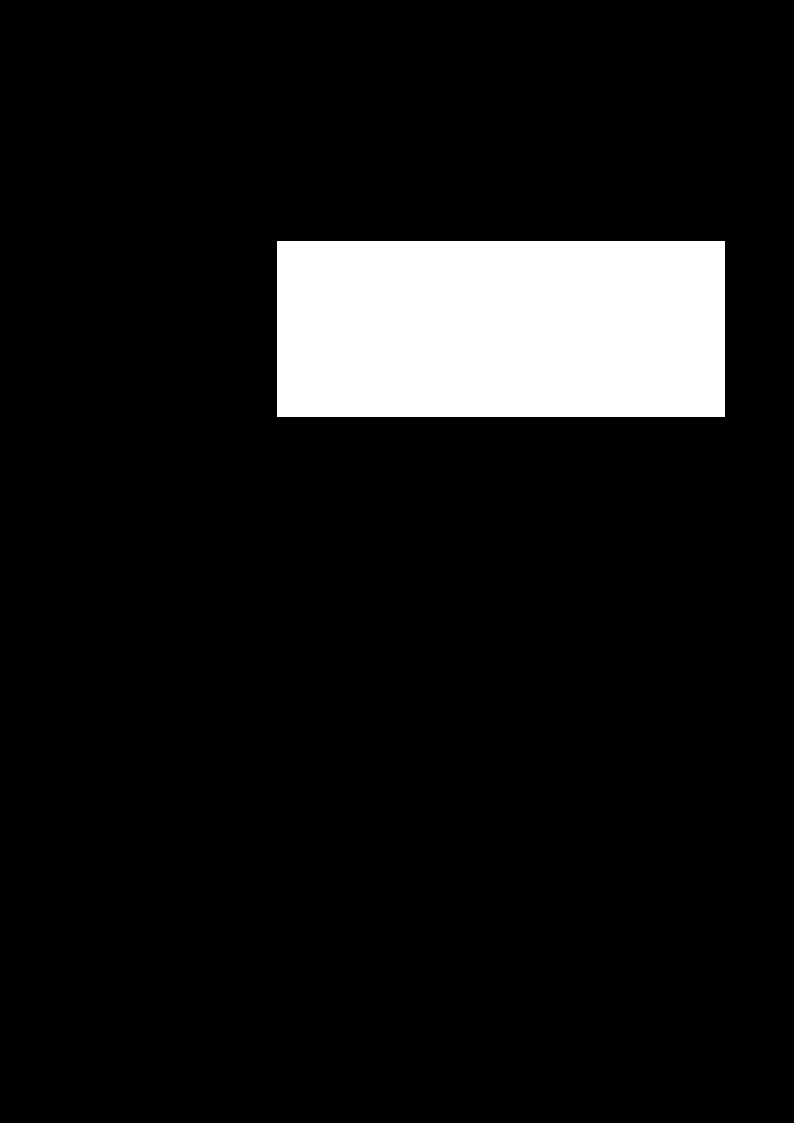table: (277, 241, 724, 416)
